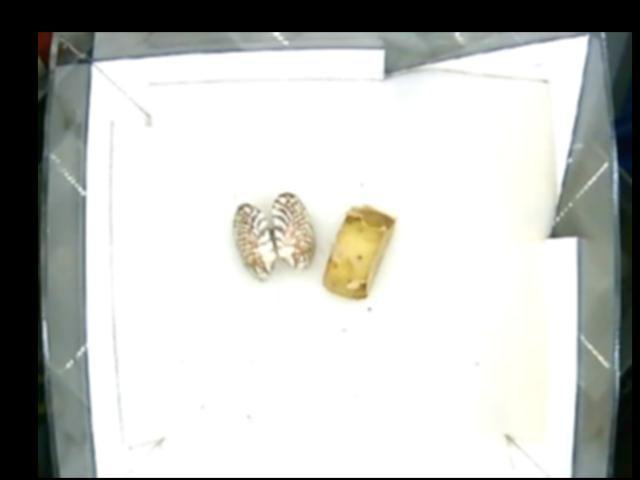Potato: (326, 205, 397, 302)
Shell: (232, 192, 315, 280)
